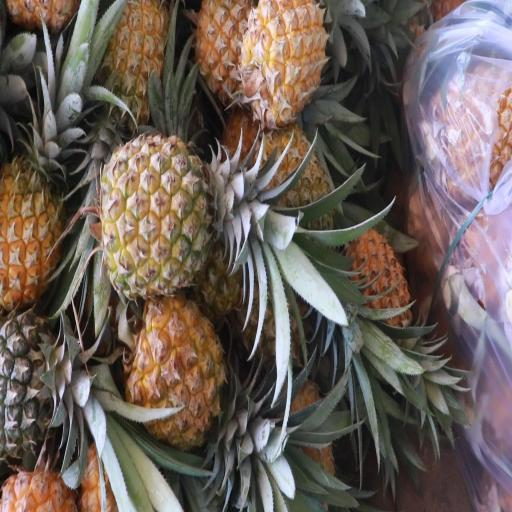Pineapple - v8 v1: (98, 132, 262, 295), (126, 291, 232, 474), (0, 129, 86, 312), (233, 0, 354, 127)
